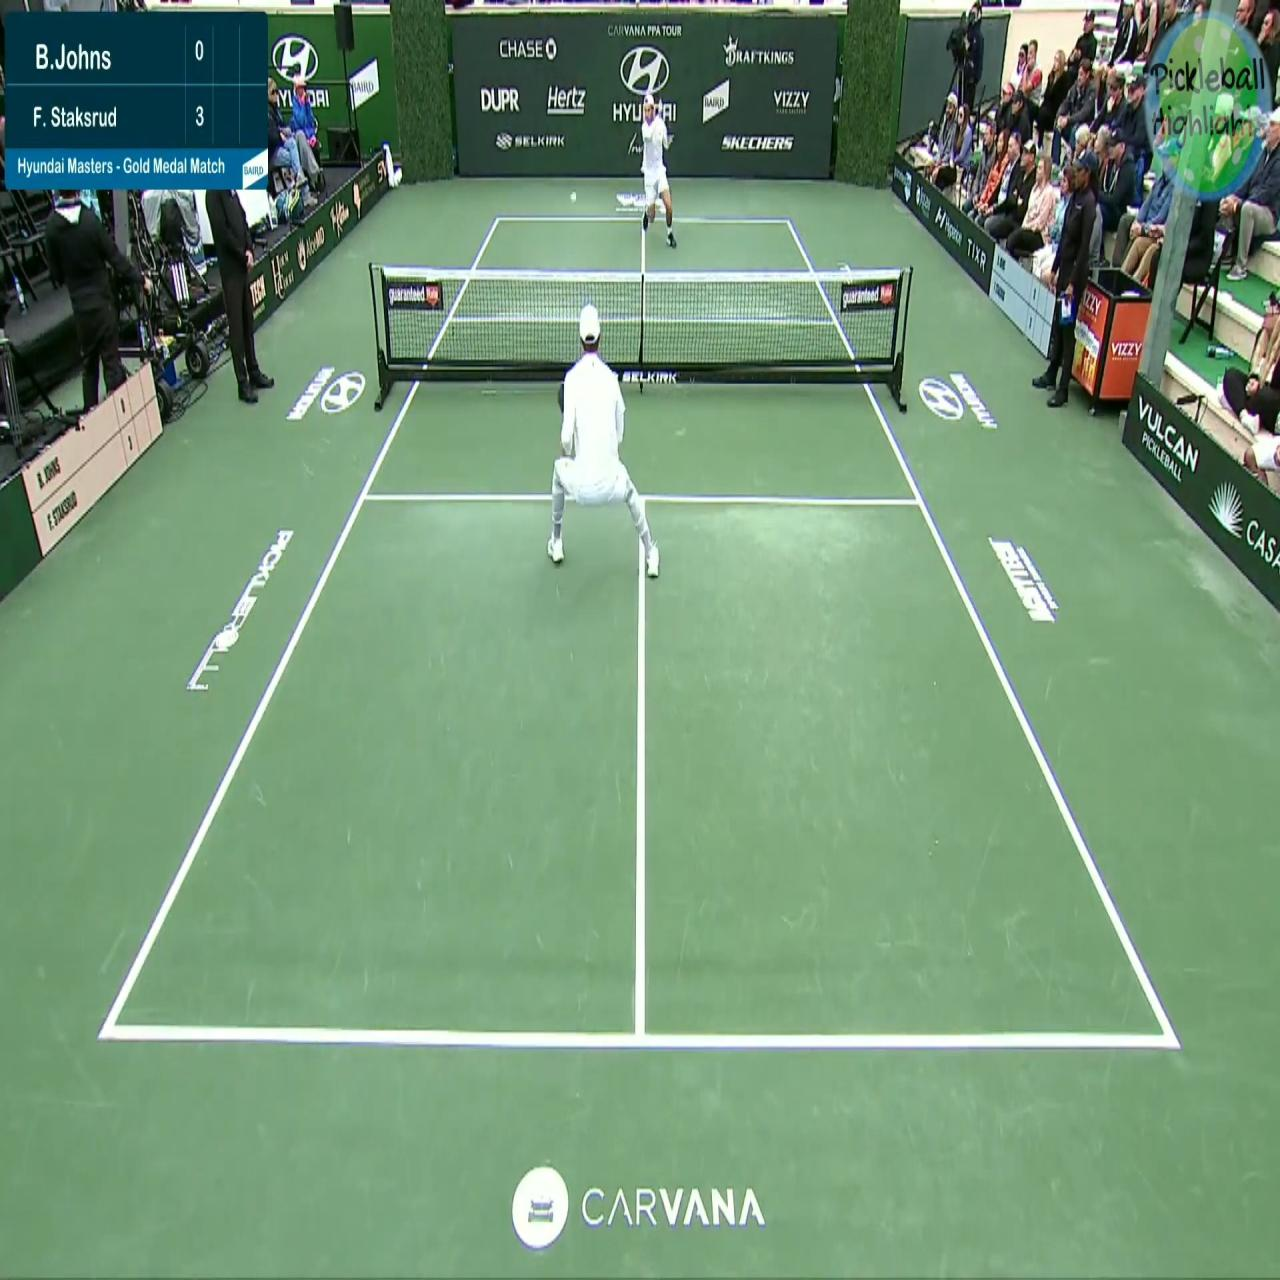pickleball: (571, 191, 577, 203)
